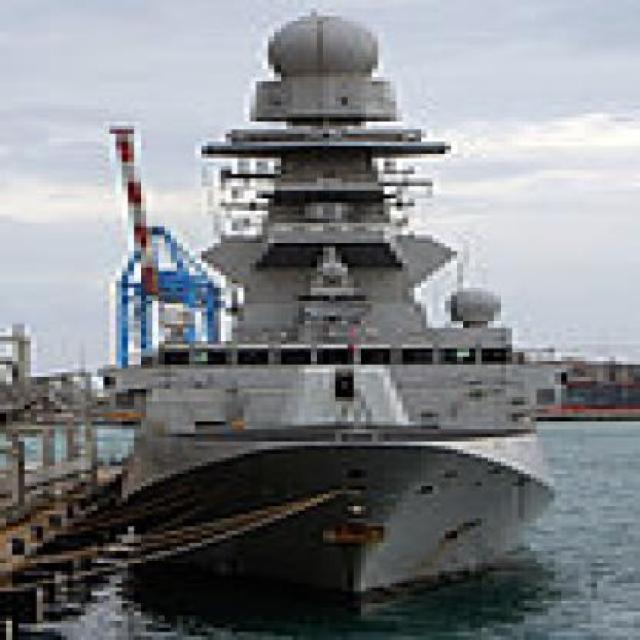warship2: (92, 1, 581, 593)
